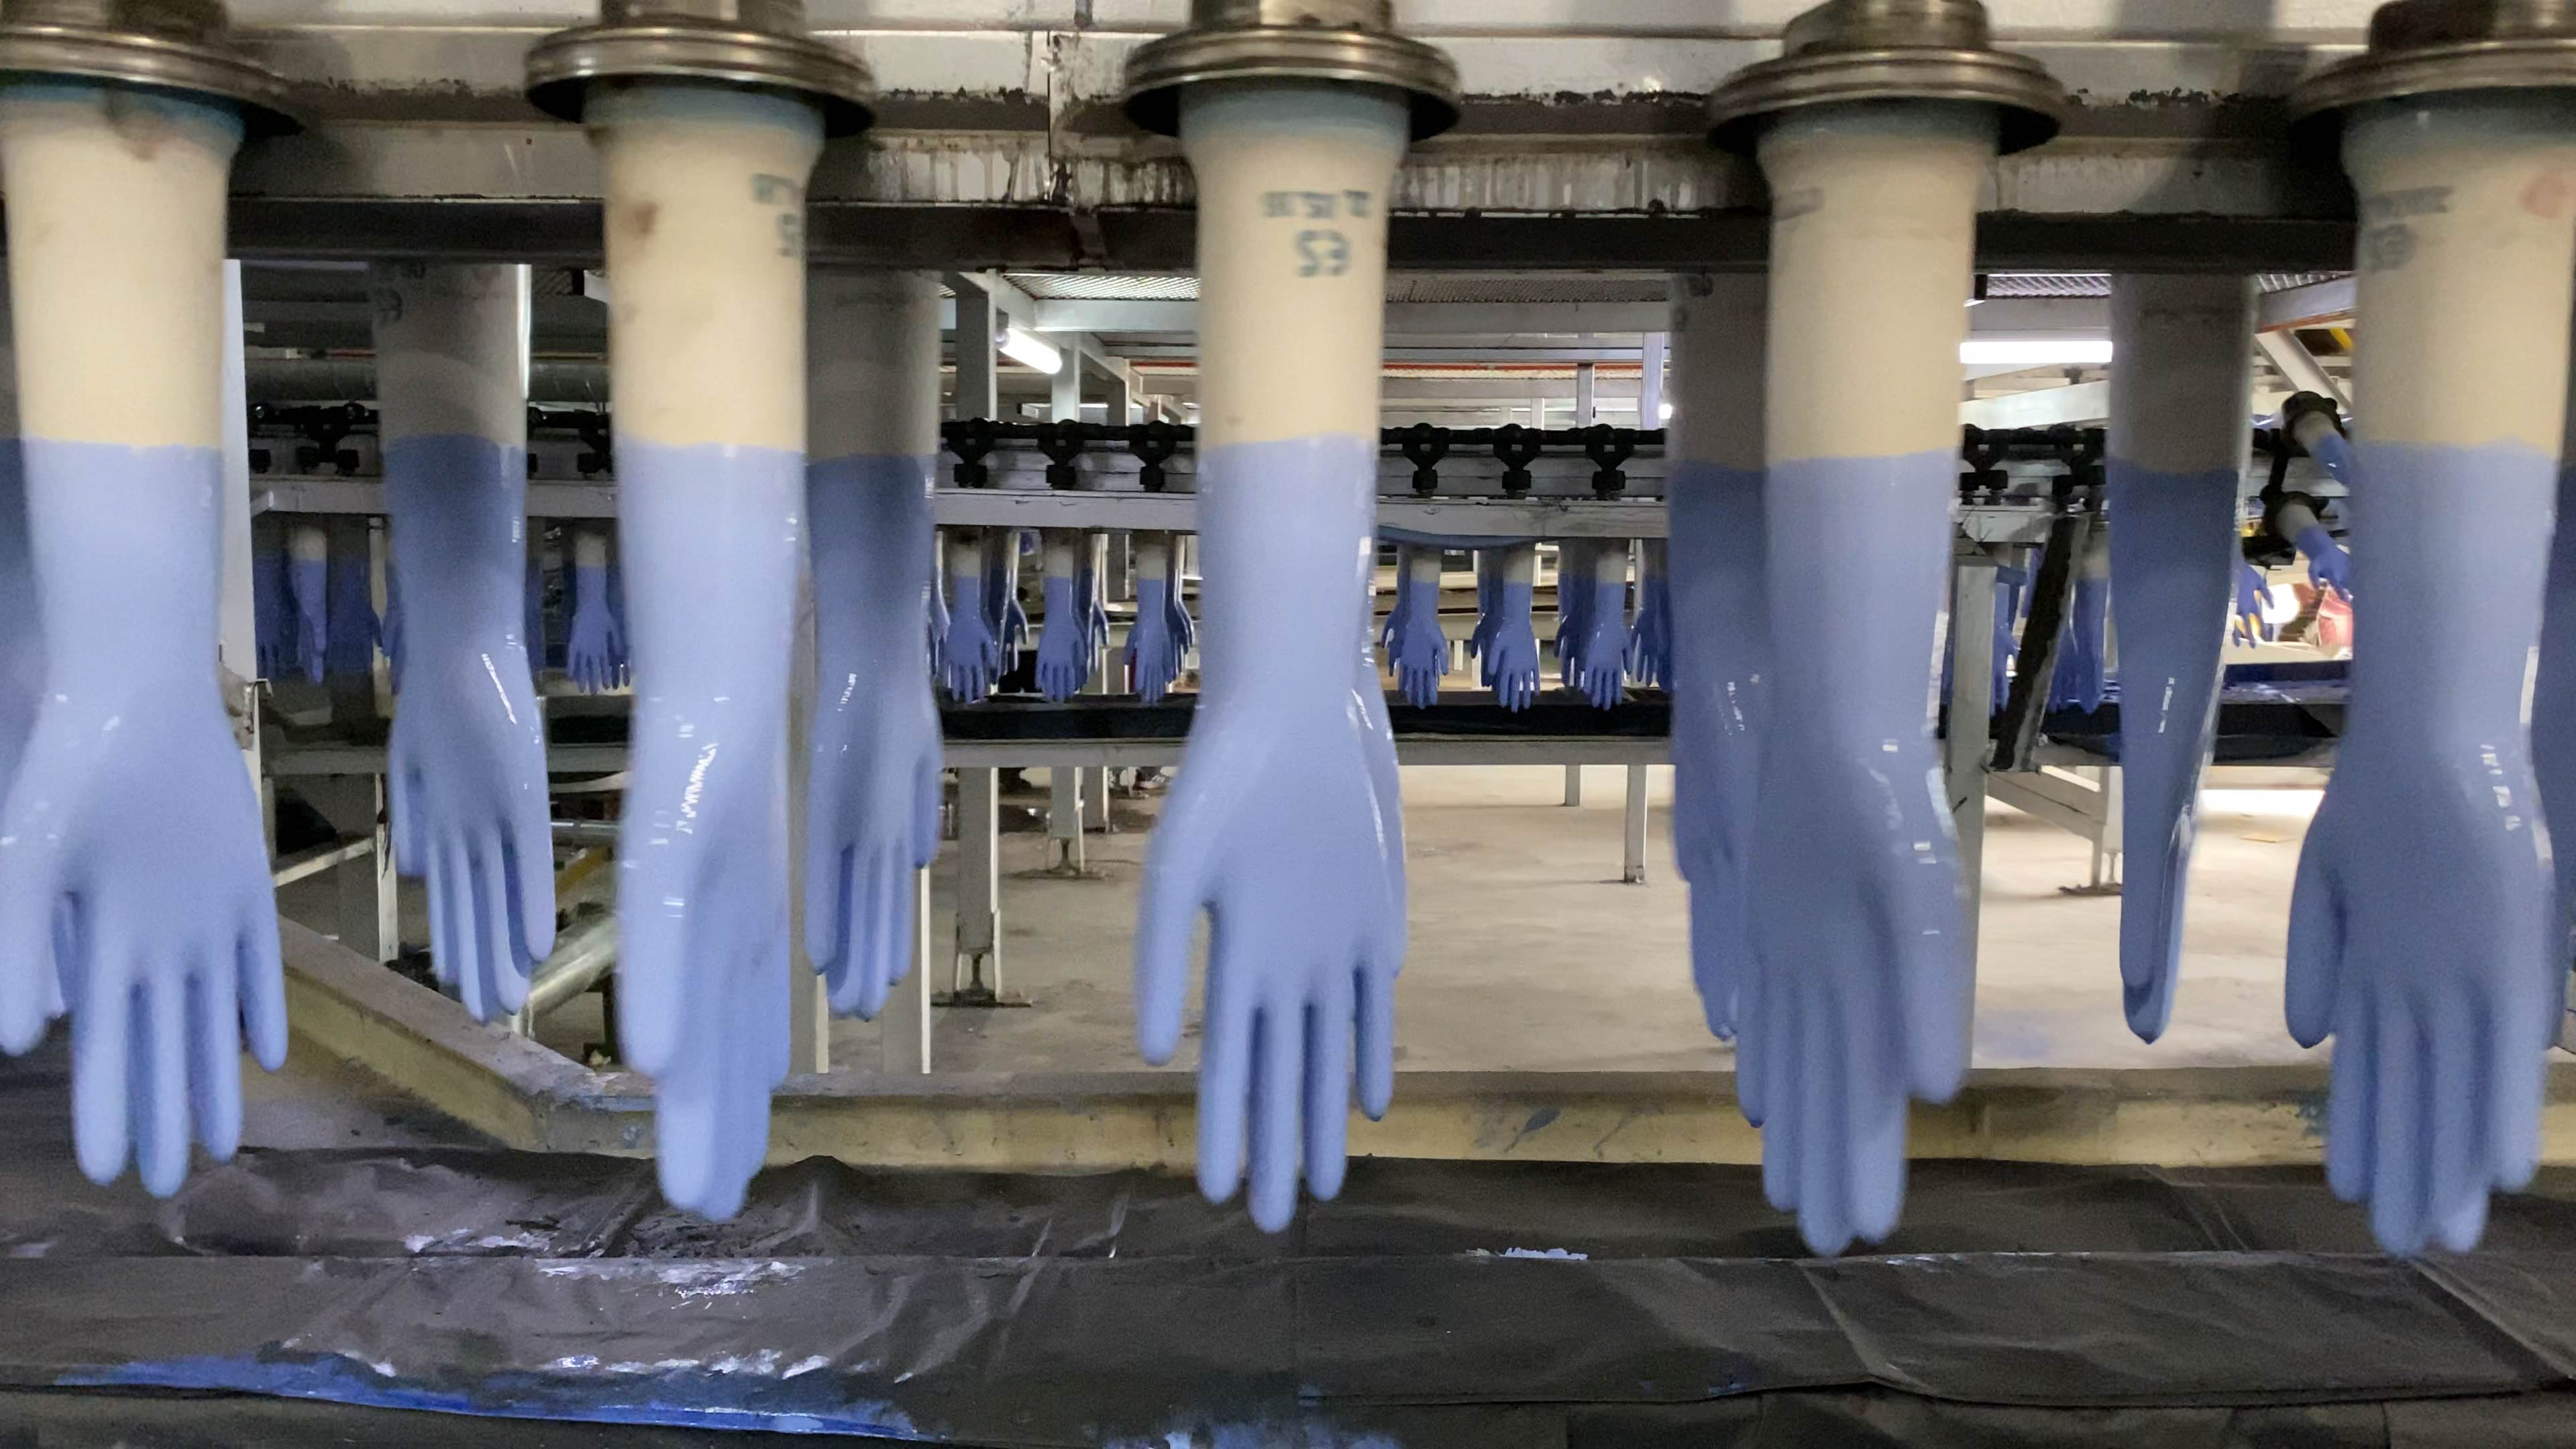glove: (2284, 446, 2553, 1256), (0, 437, 287, 1194), (1136, 439, 1396, 1231), (1734, 448, 1962, 1247), (616, 442, 791, 1221), (386, 426, 557, 1021), (798, 451, 945, 1019), (2097, 462, 2235, 1040), (1382, 593, 1456, 706), (936, 577, 1001, 699), (1580, 586, 1635, 717), (1484, 586, 1541, 709), (566, 575, 625, 692), (1031, 584, 1086, 702), (1131, 580, 1175, 701), (292, 563, 329, 681), (2233, 564, 2272, 640)
